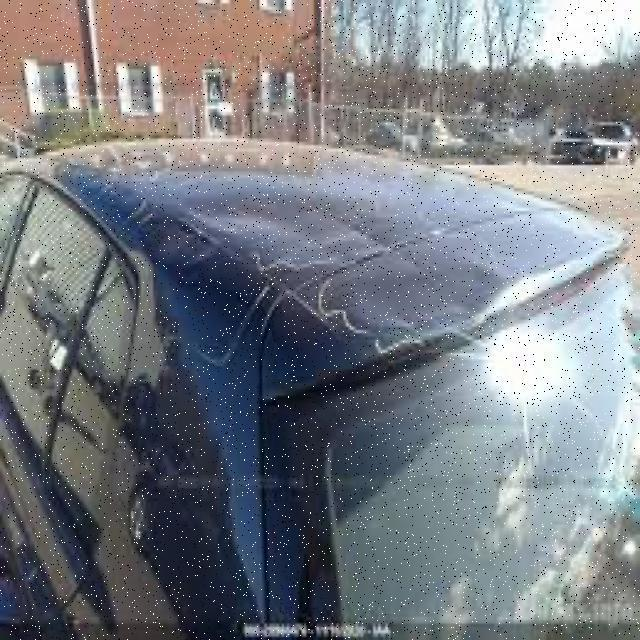roof-dent: (24, 128, 590, 380)
